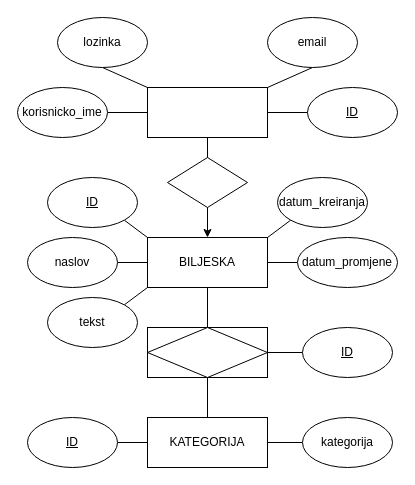
The diagram is 415 pixels wide and 485 high, and some of its shapes have lost their labels. Here are the shapes that lost their labels. From the top down, the box of each, then its label:
(146, 86, 268, 138): KORISNIK
(146, 326, 268, 378): TAG
